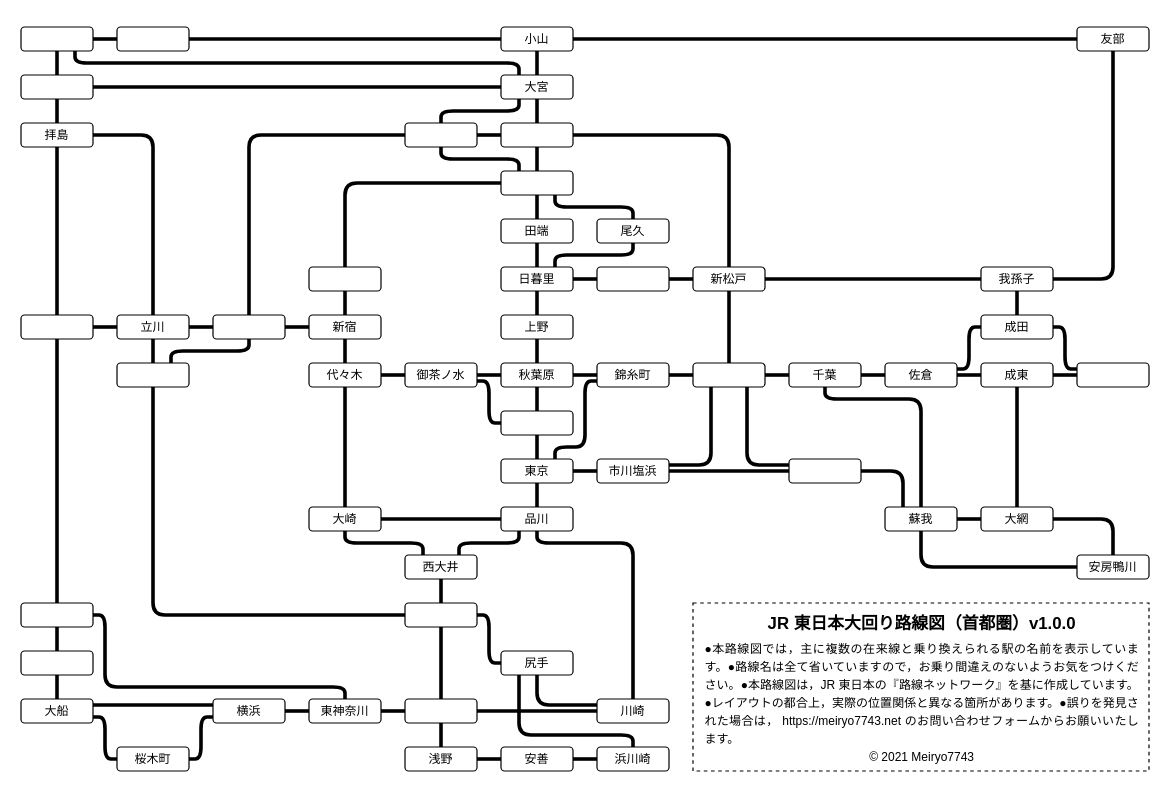
This 1170x797 diagram has some shape labels left out. Each missing label, with the centre of its shape:
"倉賀野" belongs at point (56, 38).
"八王子" belongs at point (56, 326).
"南浦和" belongs at point (536, 134).
"南船橋" belongs at point (824, 470).
"府中本町" belongs at point (152, 374).
"新前橋" belongs at point (152, 38).
"松岸" belongs at point (1112, 374).
"松戸" belongs at point (632, 278).
"橋本" belongs at point (56, 614).
"武蔵小杉" belongs at point (440, 614).
"武蔵浦和" belongs at point (440, 134).
"池袋" belongs at point (344, 278).
"神田" belongs at point (536, 422).
"茅ヶ崎" belongs at point (56, 662).
"西国分寺" belongs at point (248, 326).
"西船橋" belongs at point (728, 374).
"赤羽" belongs at point (536, 182).
"高麗川" belongs at point (56, 86).
"鶴見" belongs at point (440, 710).
